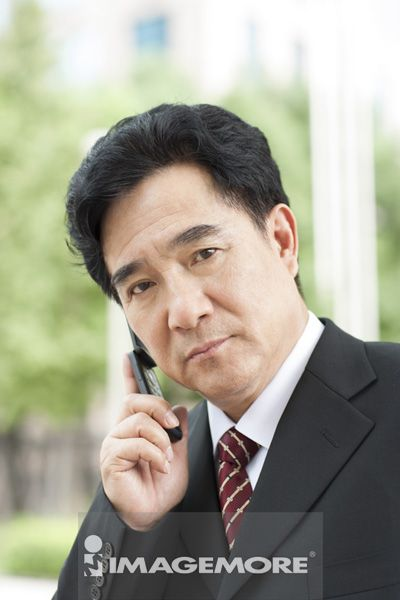phone: (122, 310, 181, 445)
talk: (96, 211, 249, 531)
